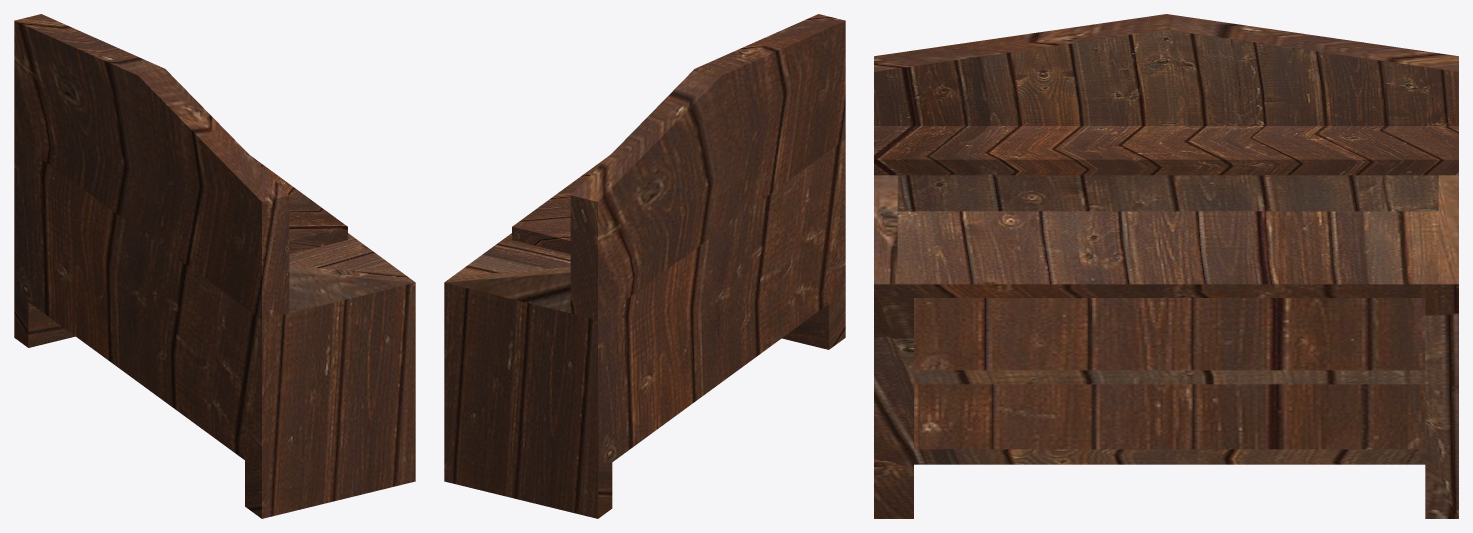
File: Commode.fbx
3 views of the same model, side by side, from view 1: azimuth 30°, elevation 25°; view 2: azimuth 150°, elevation 25°; view 3: azimuth 270°, elevation 25° (orthographic). The views are drawn at different scales.
Parts seen in each view (by area): view 1: pCube1; view 2: pCube1; view 3: pCube1.
Boxes of the visible parts, x1,y1,x2,y2 form: pCube1: (14, 14, 415, 518); pCube1: (444, 14, 845, 518); pCube1: (874, 14, 1458, 518).
Bounding box in the file's own units: 226 × 494 × 629.
